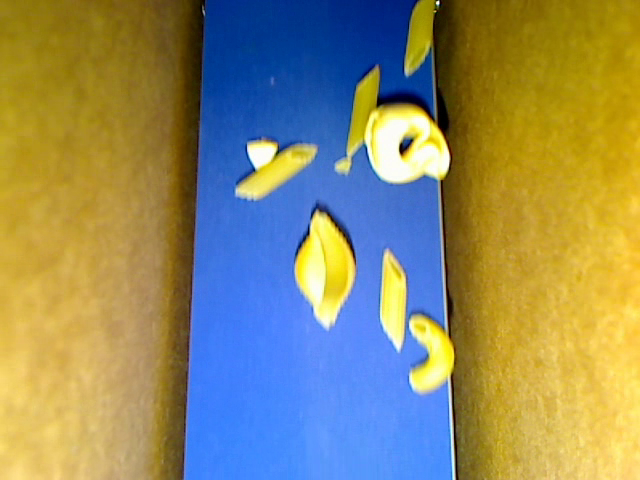elbow: (409, 314, 454, 395)
penne: (234, 141, 318, 199), (345, 64, 380, 157), (381, 248, 406, 351), (403, 1, 433, 77)
shell: (292, 208, 356, 333)
tortellini: (366, 104, 449, 184)
